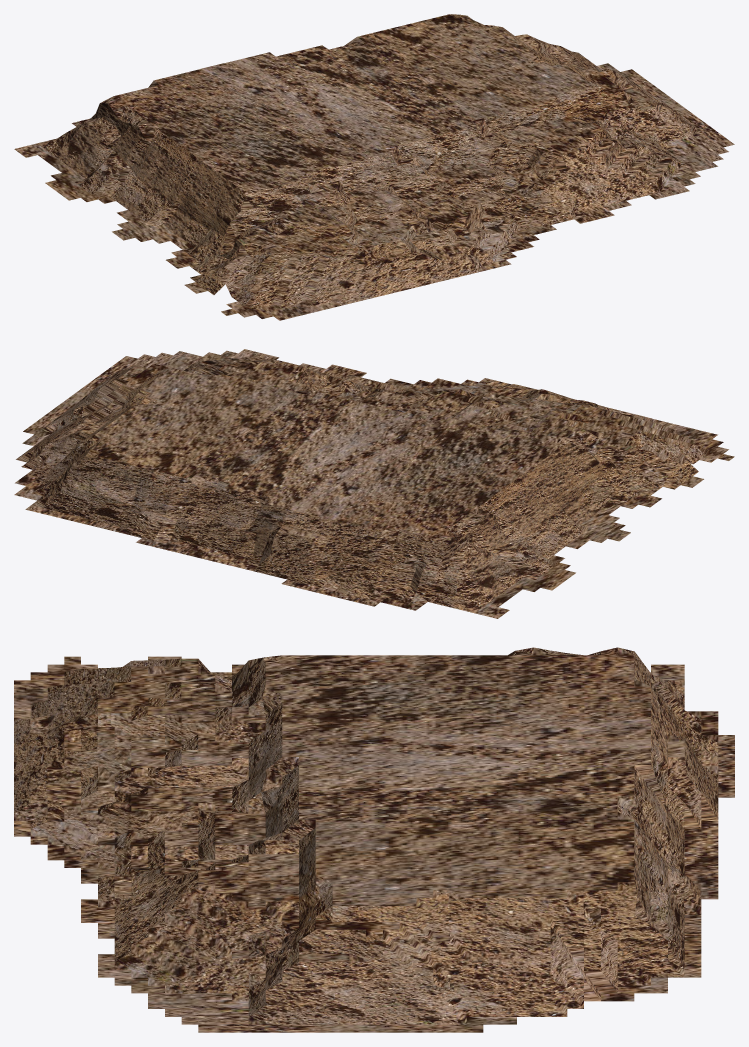
The model's file is Лока1.fbx.
3 renders of one model, top to bottom at view 1: azimuth 30°, elevation 25°; view 2: azimuth 150°, elevation 25°; view 3: azimuth 270°, elevation 25°, orthographic. The views are drawn at different scales.
Parts seen in each view (by area): view 1: Plane; view 2: Plane; view 3: Plane.
Boxes of the visible parts, box(x1,y1,x2,y2) form: Plane: box(14, 14, 734, 320); Plane: box(14, 349, 734, 618); Plane: box(14, 647, 734, 1032).
Size of the model in its own units: 6377 by 507 by 5170.
Materials: 1 (1 with a texture image).
